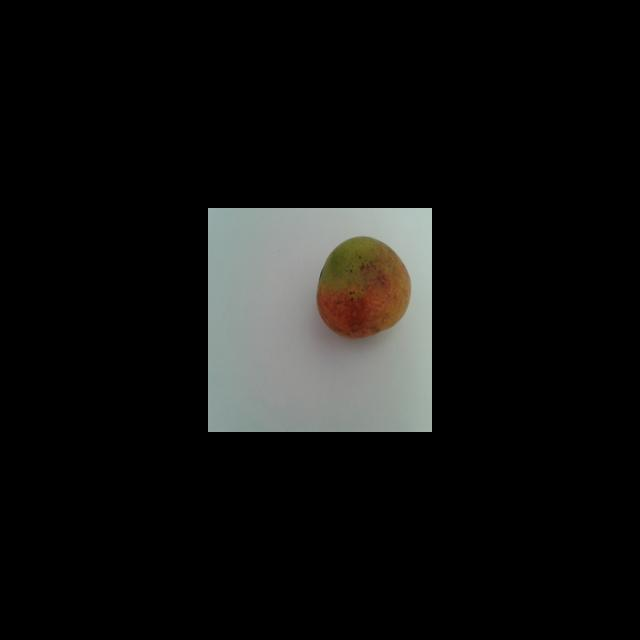Mango: (316, 235, 411, 338)
